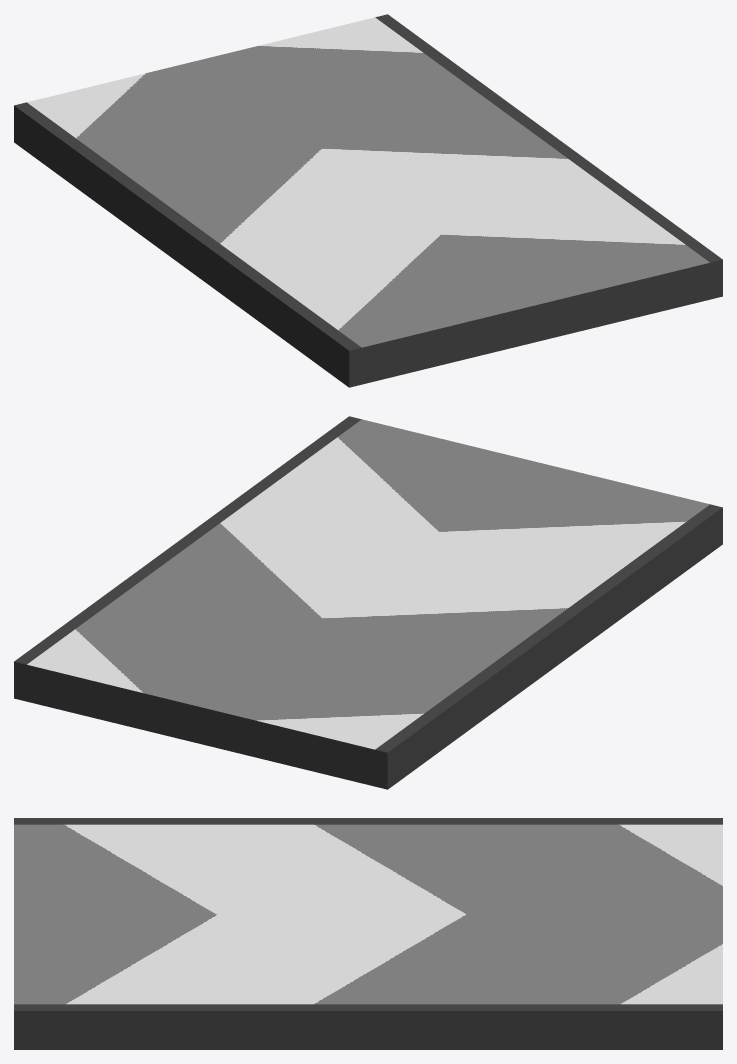
File: platform.fbx
3 views of the same model, one above another, from view 1: azimuth 30°, elevation 25°; view 2: azimuth 150°, elevation 25°; view 3: azimuth 270°, elevation 25° (orthographic). The views are drawn at different scales.
Parts seen in each view (by area): view 1: main; view 2: main; view 3: main.
Part boxes in pixels (left/top/right/bottom): main: left=14, top=14, right=722, bottom=387; main: left=14, top=416, right=722, bottom=789; main: left=14, top=818, right=722, bottom=1049.
Size of the model in its own units: 481 by 45.44 by 747.
